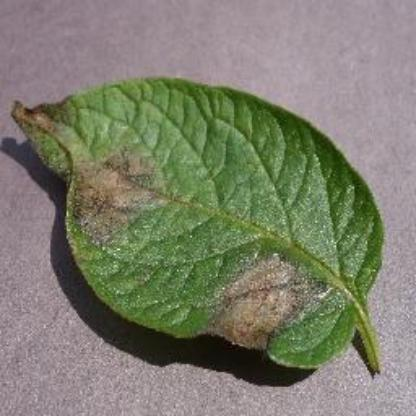Late-Blight: (8, 60, 390, 386)
